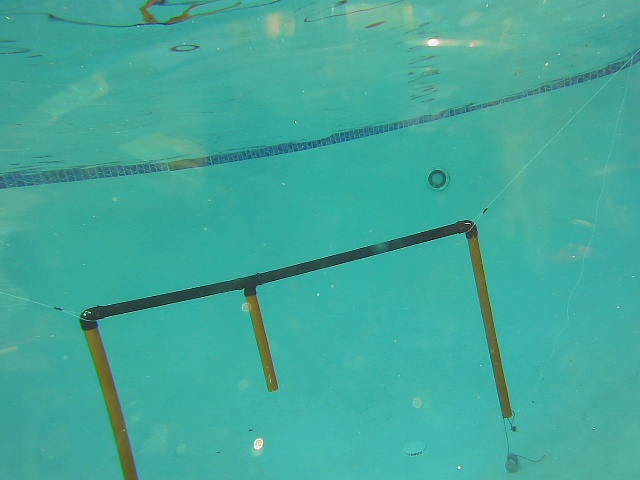Gate: (462, 234, 519, 428), (81, 328, 144, 480), (242, 294, 282, 398)
